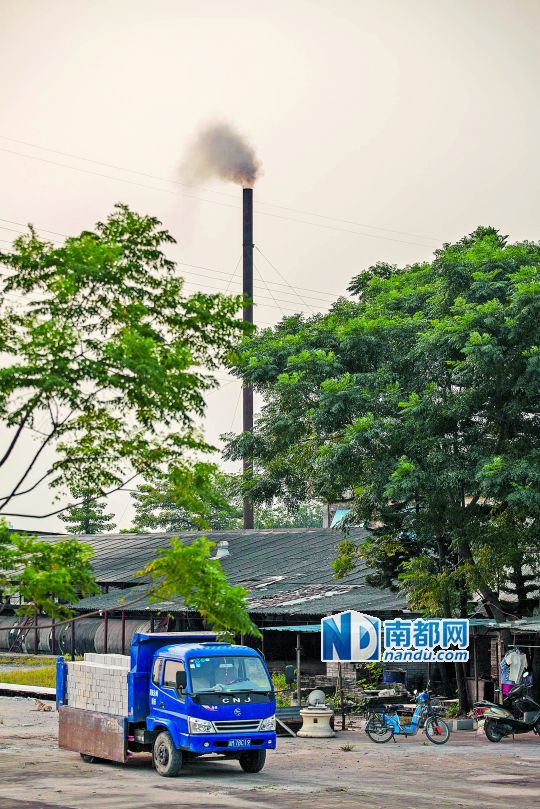dust: (181, 112, 267, 193)
